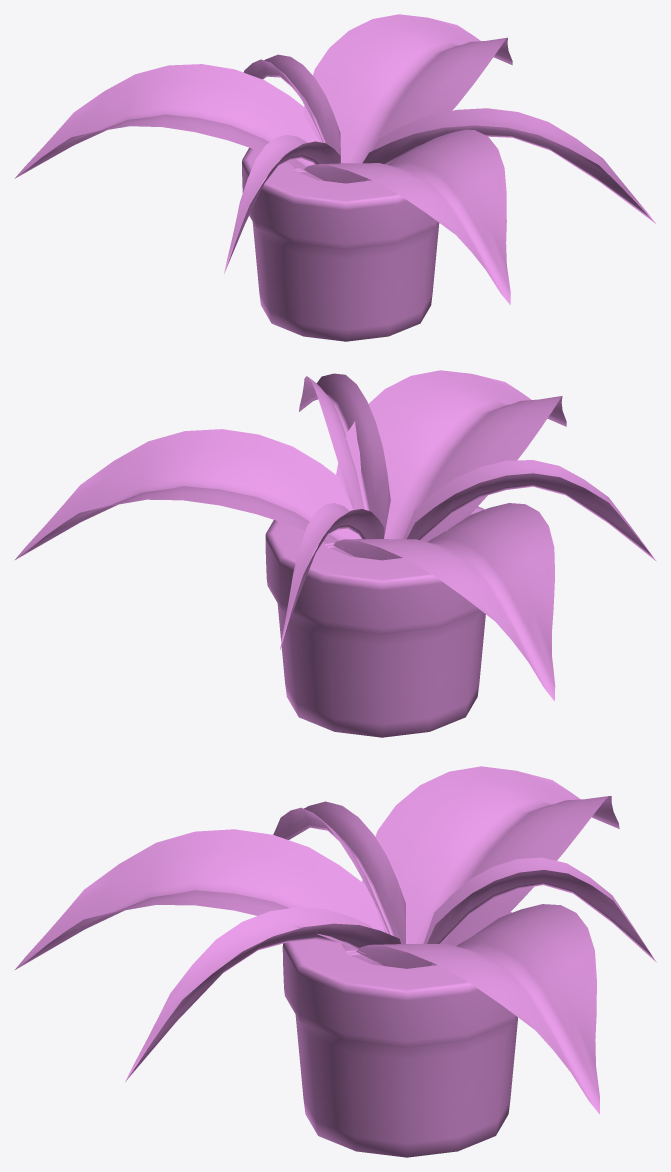
Rendered from Plant.fbx.
3 renders of one model, top to bottom at view 1: azimuth 30°, elevation 25°; view 2: azimuth 150°, elevation 25°; view 3: azimuth 270°, elevation 25°, orthographic. The views are drawn at different scales.
Visible parts, largest first — view 1: Plant; view 2: Plant; view 3: Plant.
Part boxes in pixels (<box>): Plant: <box>14,14,655,341</box>; Plant: <box>14,370,656,737</box>; Plant: <box>15,766,656,1157</box>.
Bounding box in the file's own units: 24.65 × 9.92 × 23.45.
